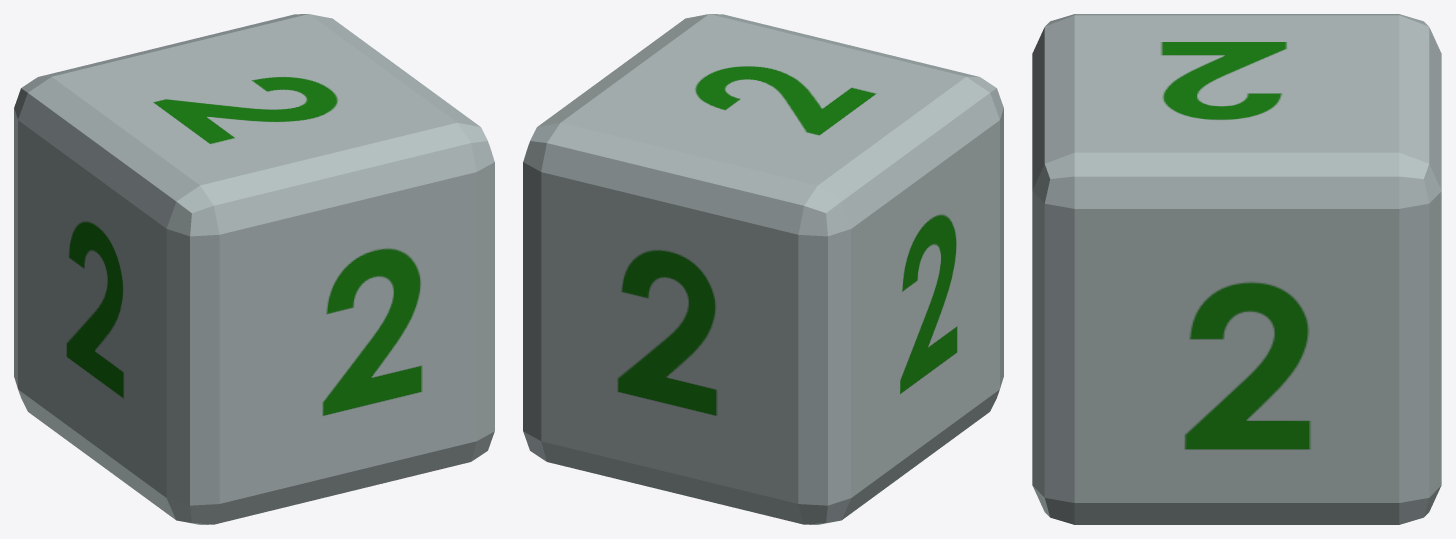
The model's file is cubeTwo.glb.
The picture shows the model from 3 angles, left to right: view 1: azimuth 30°, elevation 25°; view 2: azimuth 150°, elevation 25°; view 3: azimuth 270°, elevation 25°; orthographic projection. The views are drawn at different scales.
Visible parts, largest first — view 1: Cube; view 2: Cube; view 3: Cube.
Boxes of the visible parts, <box> form: Cube: <box>14,14,494,524</box>; Cube: <box>523,14,1003,524</box>; Cube: <box>1032,14,1441,524</box>.
Bounding box in the file's own units: 2 × 2 × 2.
Materials: 1 (1 with a texture image).
